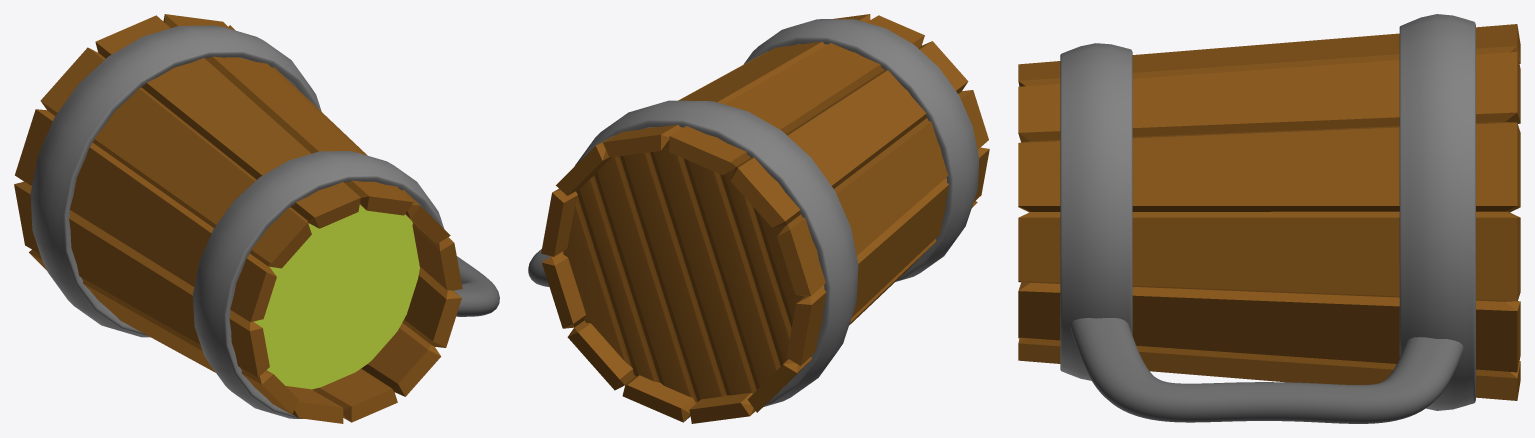
File: Green Mug.glb
The picture shows the model from 3 angles, left to right: view 1: azimuth 30°, elevation 25°; view 2: azimuth 150°, elevation 25°; view 3: azimuth 270°, elevation 25°; orthographic projection. The views are drawn at different scales.
Parts seen in each view (by area): view 1: handle.008; view 2: handle.008; view 3: handle.008.
Boxes of the visible parts, x1,y1,x2,y2 form: handle.008: [14, 14, 499, 423]; handle.008: [528, 14, 989, 423]; handle.008: [1018, 14, 1520, 423].
Bounding box in the file's own units: 25.32 × 21.09 × 26.76.
